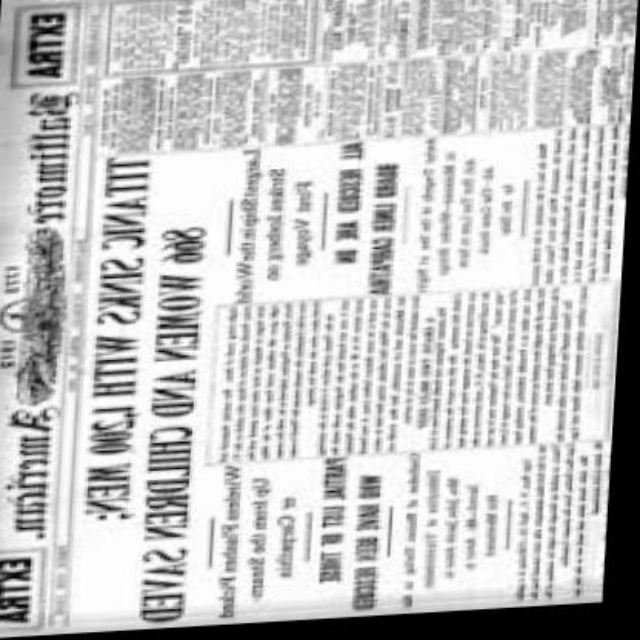trash: (0, 0, 634, 628)
